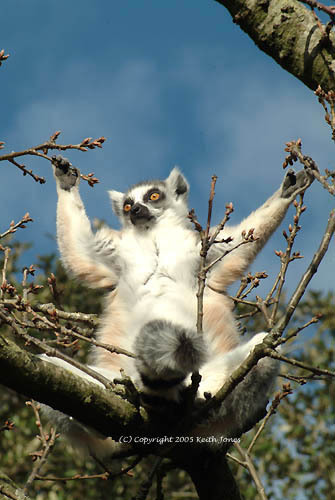cat: (28, 151, 316, 466)
